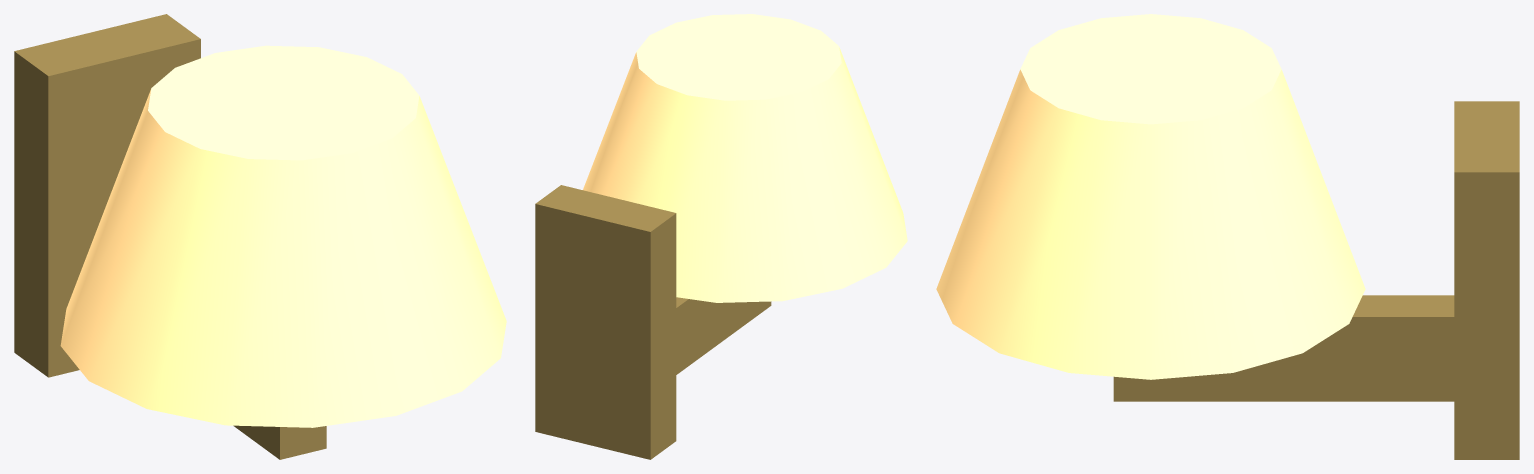
File: sconce.glb
The picture shows the model from 3 angles, left to right: view 1: azimuth 30°, elevation 25°; view 2: azimuth 150°, elevation 25°; view 3: azimuth 270°, elevation 25°; orthographic projection. The views are drawn at different scales.
Visible parts, largest first — view 1: Gallery brass wall light; view 2: Gallery brass wall light; view 3: Gallery brass wall light.
Boxes of the visible parts, x1=… form: Gallery brass wall light: x1=14, y1=14, x2=506, y2=459; Gallery brass wall light: x1=535, y1=14, x2=907, y2=459; Gallery brass wall light: x1=936, y1=14, x2=1519, y2=459.
Bounding box in the file's own units: 0.46 × 0.42 × 0.625.
